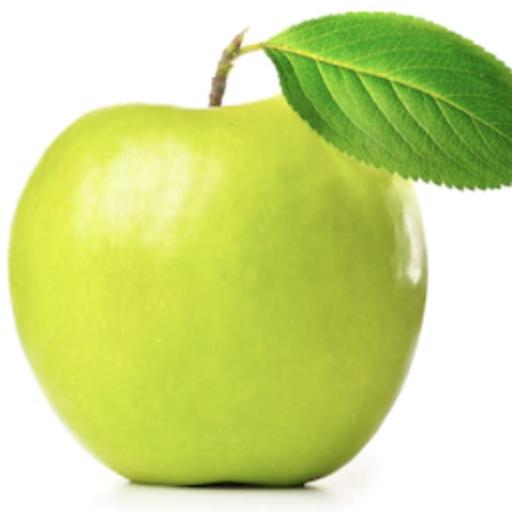apple: (10, 97, 426, 485)
